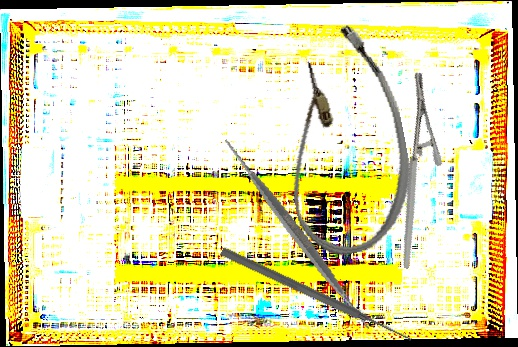Cannula: (263, 18, 425, 263)
Needle Holder: (343, 70, 481, 270)
Pusher: (219, 245, 414, 346)
Spatula Surgical: (187, 124, 407, 345)
